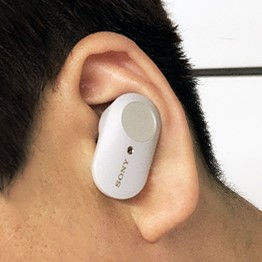earphone: (53, 31, 201, 244)
